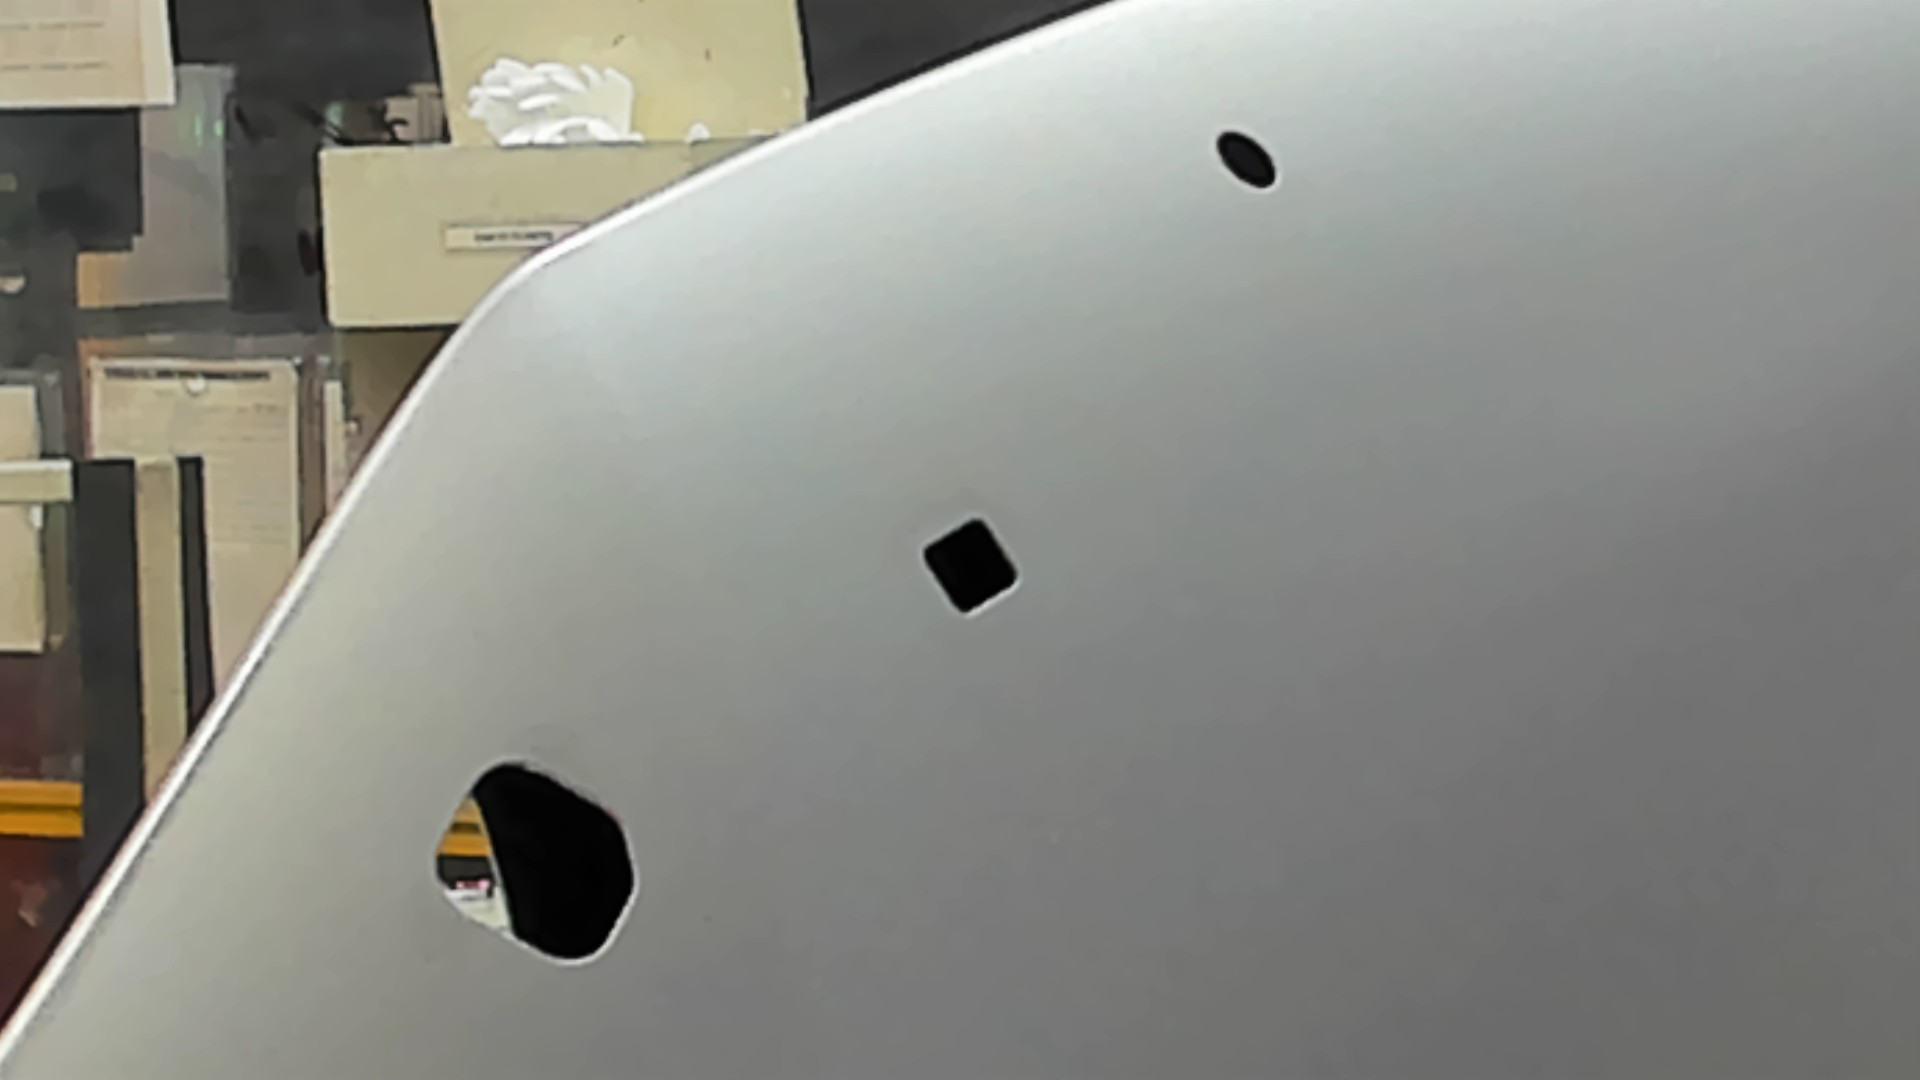Agujero: (920, 516, 1021, 617), (1215, 129, 1276, 187)
Agujerote: (431, 760, 638, 967)
